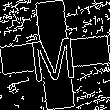M_N: (30, 28, 80, 82)
